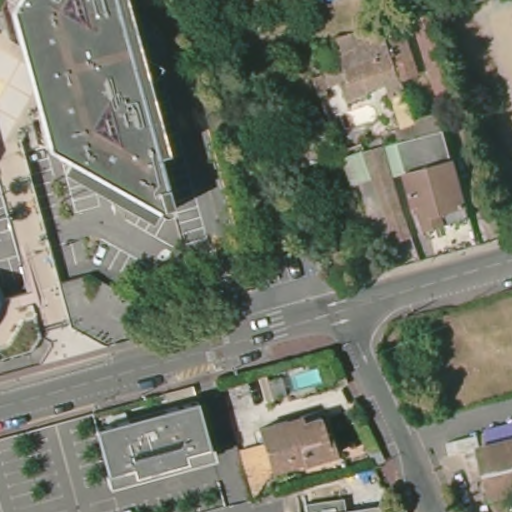pool: (290, 368, 328, 393)
